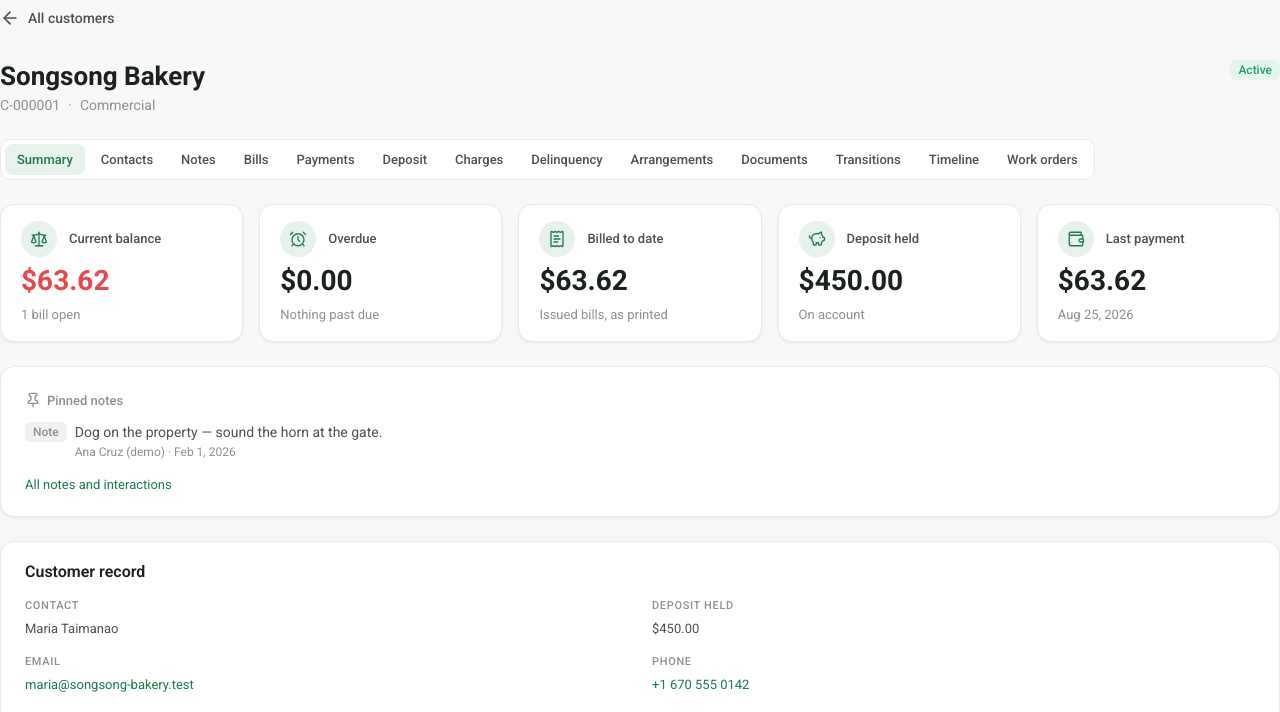
Scenario: CustomerDetailPage › says "Fees" for a charge bill, which has no units and no tariff to name
The width and height of the screenshot is (1280, 712).
Expected: the heading "Songsong Bakery" is shown, [0,60,205,92]
Click the link "Bills" at coordinates (256, 159), box [244,152,268,166]
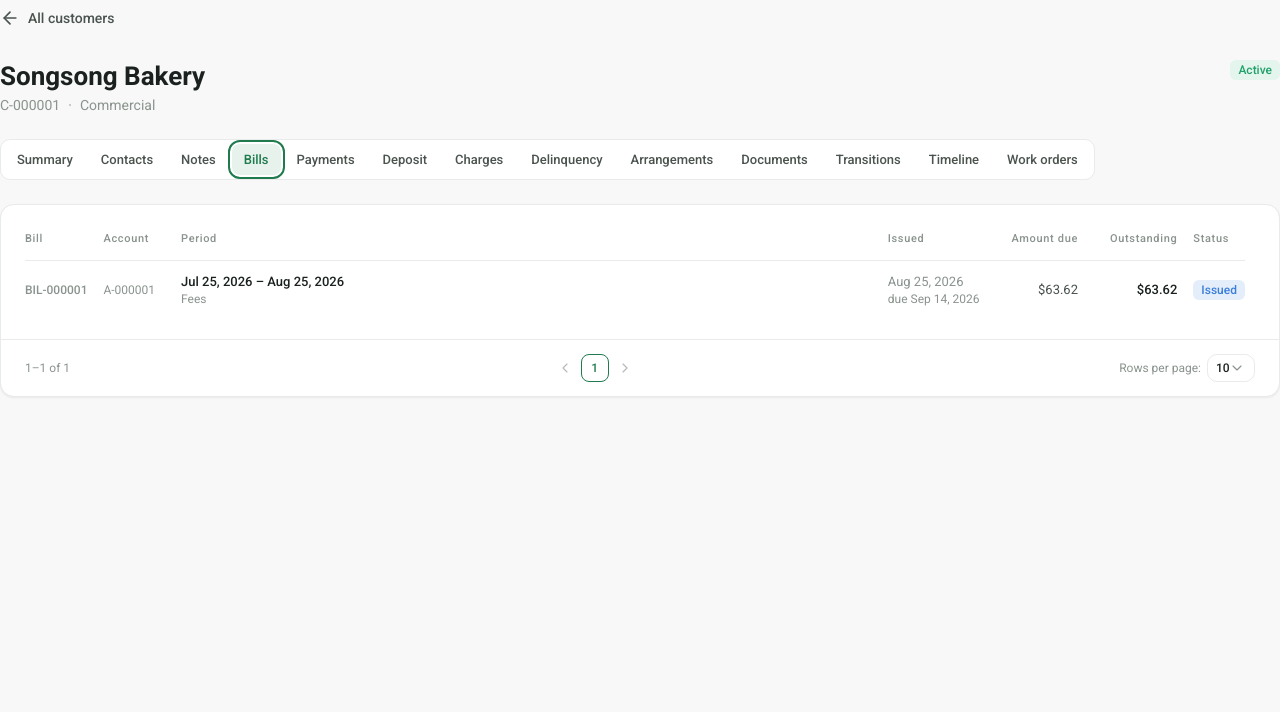
Now the text "Fees" is shown, box [181,292,206,306]
